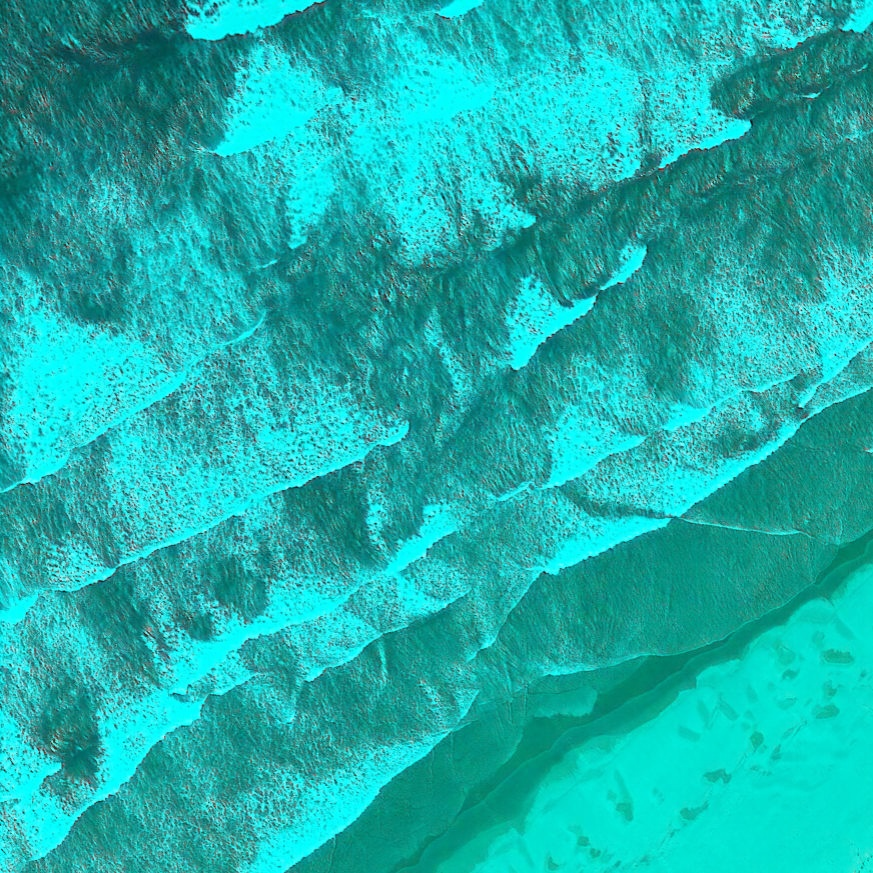rip_current: (86, 144, 600, 518)
